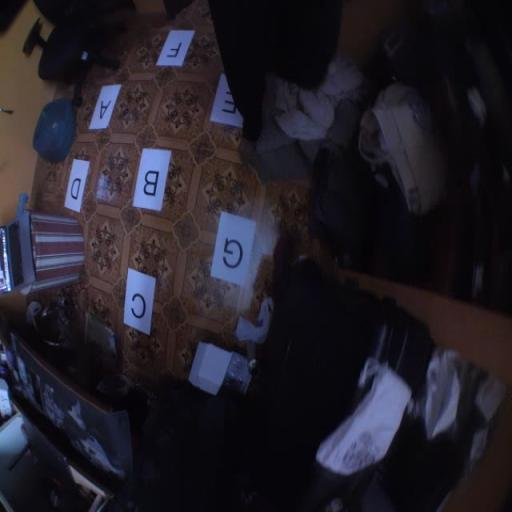A: (88, 84, 122, 129)
B: (133, 148, 171, 211)
C: (123, 269, 156, 335)
D: (65, 159, 90, 212)
E: (209, 74, 242, 128)
F: (156, 30, 195, 67)
G: (210, 211, 255, 286)
